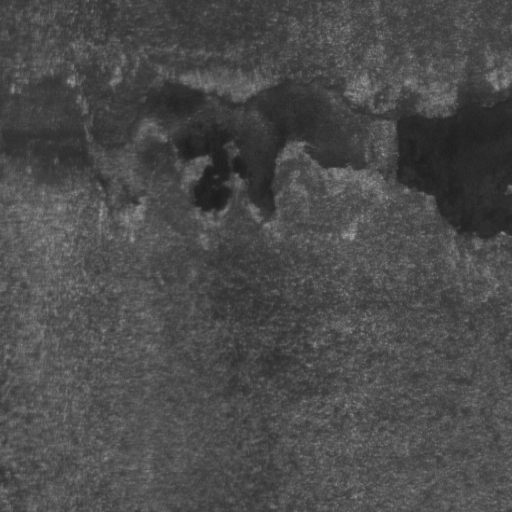aokeng: (147, 75, 512, 245), (1, 72, 98, 179)
